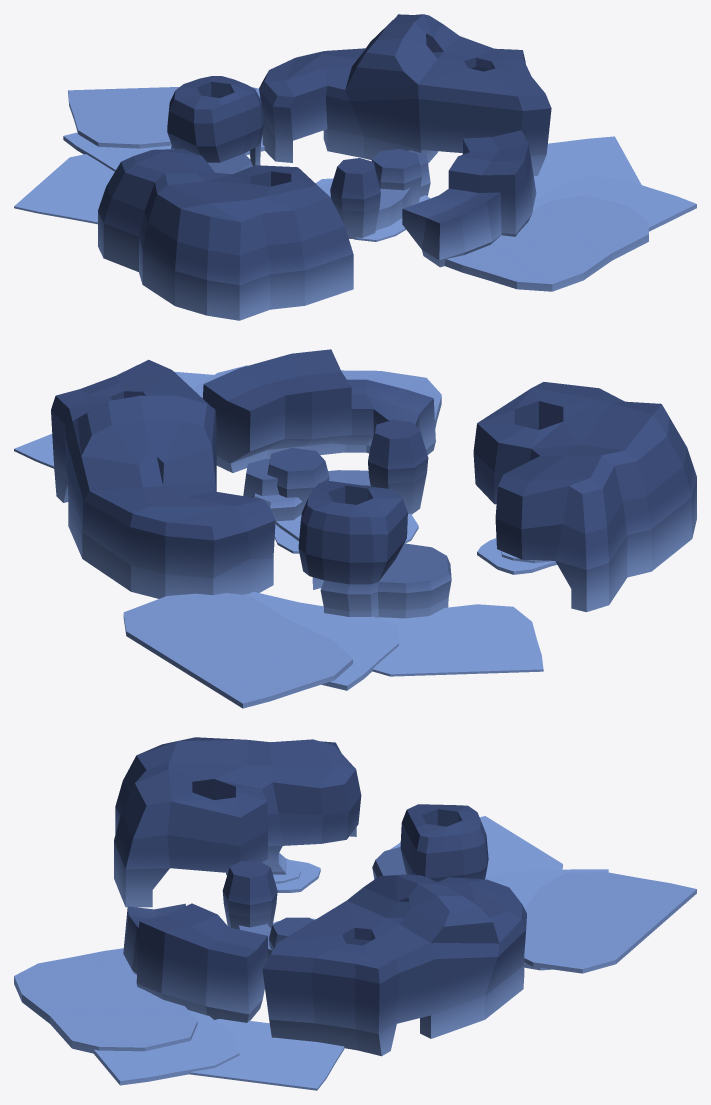
File: Grotto.fbx
3 views of the same model, one above another, from view 1: azimuth 30°, elevation 25°; view 2: azimuth 150°, elevation 25°; view 3: azimuth 270°, elevation 25° (orthographic). The views are drawn at different scales.
Parts seen in each view (by area): view 1: pCube43; view 2: pCube43; view 3: pCube43.
Boxes of the visible parts, box(x1,y1,x2,y2) form: pCube43: box(14, 14, 696, 320); pCube43: box(14, 349, 696, 708); pCube43: box(14, 737, 696, 1090).
Size of the model in its own units: 109 by 24.02 by 116.
